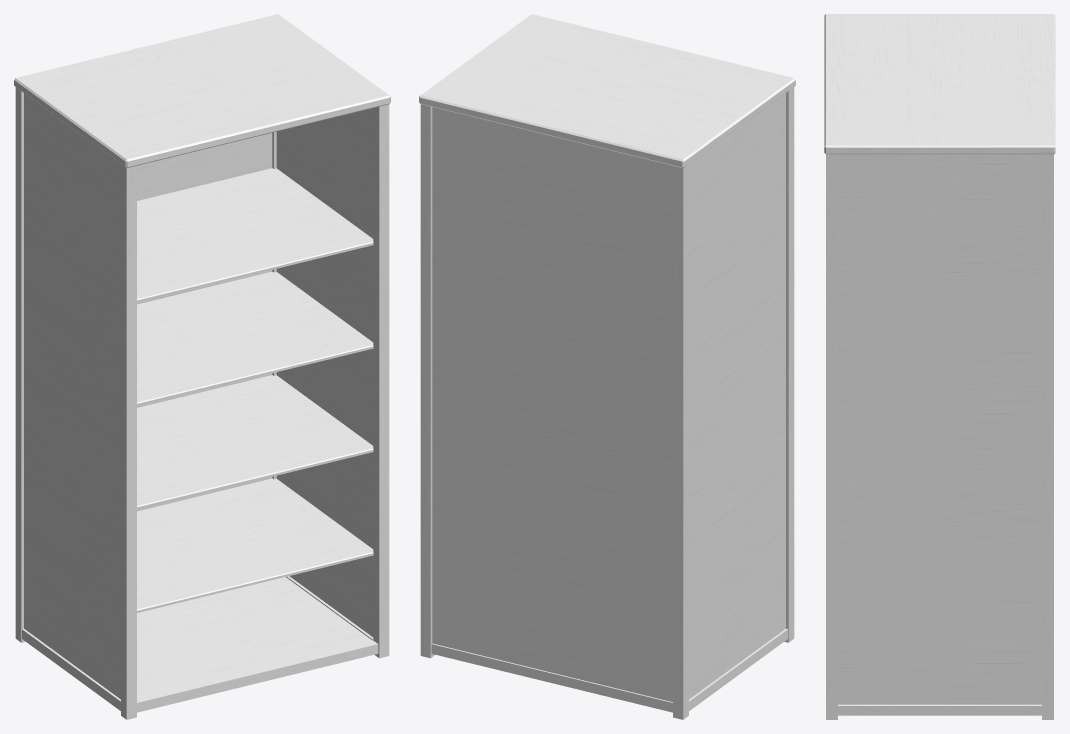
The model's file is rack_c01.fbx.
3 renders of one model, left to right at view 1: azimuth 30°, elevation 25°; view 2: azimuth 150°, elevation 25°; view 3: azimuth 270°, elevation 25°, orthographic. The views are drawn at different scales.
Visible parts, largest first — view 1: tana_c01; view 2: tana_c01; view 3: tana_c01.
Part boxes in pixels (x1,y1,x2,y2): tana_c01: (14, 14, 390, 719); tana_c01: (419, 14, 795, 719); tana_c01: (824, 14, 1055, 719).
Bounding box in the file's own units: 80.59 × 163 × 59.37.
Materials: 1 (1 with a texture image).
